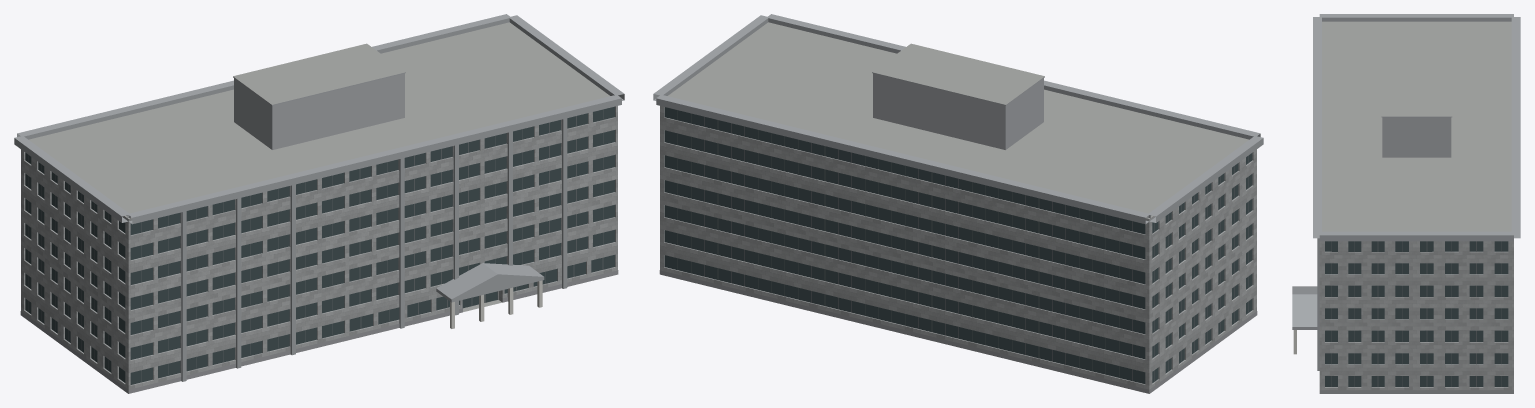
3 views of the same model, side by side, from view 1: azimuth 30°, elevation 25°; view 2: azimuth 150°, elevation 25°; view 3: azimuth 270°, elevation 25° (orthographic). The views are drawn at different scales.
Visible parts, largest first — view 1: industrialCenter__wall, industrialCenter__roof, industrialCenter__glass, industrialCenter__trim, industrialCenter__wall2, industrialCenter__base, industrialCenter__frame, industrialCenter__column; view 2: industrialCenter__wall, industrialCenter__glass, industrialCenter__roof, industrialCenter__trim, industrialCenter__wall2, industrialCenter__frame, industrialCenter__base; view 3: industrialCenter__roof, industrialCenter__wall, industrialCenter__trim, industrialCenter__glass, industrialCenter__wall2, industrialCenter__frame, industrialCenter__base.
Part boxes in pixels (bbox=[...]): industrialCenter__wall: bbox=[21, 106, 617, 393]; industrialCenter__roof: bbox=[29, 22, 610, 311]; industrialCenter__glass: bbox=[25, 106, 614, 384]; industrialCenter__trim: bbox=[14, 14, 624, 381]; industrialCenter__wall2: bbox=[234, 73, 404, 149]; industrialCenter__base: bbox=[20, 270, 618, 393]; industrialCenter__frame: bbox=[28, 109, 603, 382]; industrialCenter__column: bbox=[450, 280, 542, 328]; industrialCenter__wall: bbox=[660, 106, 1256, 393]; industrialCenter__glass: bbox=[664, 107, 1252, 383]; industrialCenter__roof: bbox=[667, 22, 1248, 218]; industrialCenter__trim: bbox=[653, 14, 1263, 224]; industrialCenter__wall2: bbox=[873, 73, 1043, 149]; industrialCenter__frame: bbox=[677, 110, 1248, 381]; industrialCenter__base: bbox=[659, 270, 1257, 393]; industrialCenter__roof: bbox=[1322, 21, 1511, 231]; industrialCenter__wall: bbox=[1319, 241, 1513, 390]; industrialCenter__trim: bbox=[1292, 14, 1520, 370]; industrialCenter__glass: bbox=[1325, 241, 1508, 386]; industrialCenter__wall2: bbox=[1382, 117, 1451, 157]; industrialCenter__frame: bbox=[1331, 241, 1501, 386]; industrialCenter__base: bbox=[1319, 390, 1513, 393].
Bounding box in the file's own units: 75.87 × 31.8 × 33.11.
9 materials, 1 textured.
